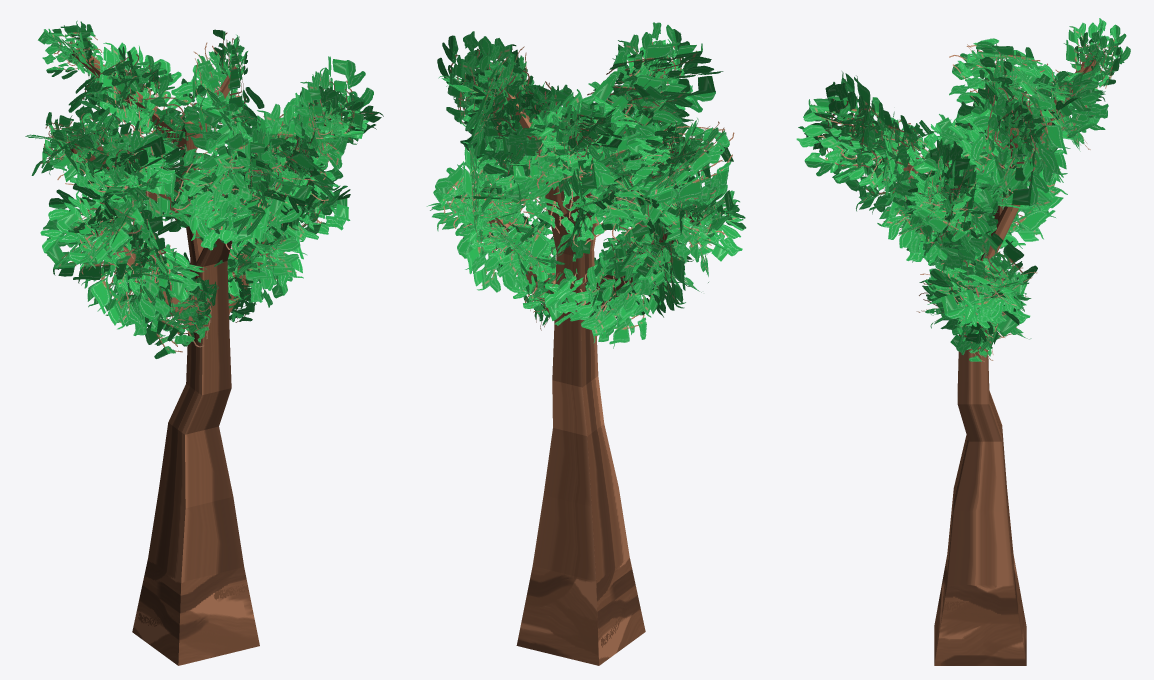
File: ProperTree.fbx
3 views of the same model, side by side, from view 1: azimuth 30°, elevation 25°; view 2: azimuth 150°, elevation 25°; view 3: azimuth 270°, elevation 25° (orthographic).
Visible parts, largest first — view 1: Cube, Cube|branch|Dupli|125, Cube|branch|Dupli|144, Cube|branch|Dupli|10, Cube|branch|Dupli|44, Cube|branch|Dupli|160, Cube|branch|Dupli|23, Cube|branch|Dupli|216, Cube|branch|Dupli|128, Cube|branch|Dupli|99, Cube|branch|Dupli|43, Cube|branch|Dupli|123 (+44 smaller); view 2: Cube, Cube|branch|Dupli|68, Cube|branch|Dupli|44, Cube|branch|Dupli|117, Cube|branch|Dupli|113, Cube|branch|Dupli|108, Cube|branch|Dupli|193, Cube|branch|Dupli|216, Cube|branch|Dupli|138, Cube|branch|Dupli|160, Cube|branch|Dupli|31, Cube|branch|Dupli|142 (+49 smaller); view 3: Cube, Cube|branch|Dupli|108, Cube|branch|Dupli|56, Cube|branch|Dupli|176, Cube|branch|Dupli|4, Cube|branch|Dupli|113, Cube|branch|Dupli|188, Cube|branch|Dupli|55, Cube|branch|Dupli|44, Cube|branch|Dupli|23, Cube|branch|Dupli|105, Cube|branch|Dupli|52 (+28 smaller).
Boxes of the visible parts, bbox=[...] form: Cube: bbox=[69, 48, 332, 665]; Cube|branch|Dupli|125: bbox=[80, 240, 189, 329]; Cube|branch|Dupli|144: bbox=[43, 183, 141, 283]; Cube|branch|Dupli|10: bbox=[127, 81, 222, 171]; Cube|branch|Dupli|44: bbox=[213, 126, 281, 235]; Cube|branch|Dupli|160: bbox=[40, 191, 144, 268]; Cube|branch|Dupli|23: bbox=[94, 42, 189, 139]; Cube|branch|Dupli|216: bbox=[294, 56, 373, 155]; Cube|branch|Dupli|128: bbox=[56, 191, 133, 273]; Cube|branch|Dupli|99: bbox=[88, 130, 197, 209]; Cube|branch|Dupli|43: bbox=[182, 145, 262, 229]; Cube|branch|Dupli|123: bbox=[227, 213, 307, 302]; Cube: bbox=[476, 70, 695, 665]; Cube|branch|Dupli|68: bbox=[624, 110, 734, 206]; Cube|branch|Dupli|44: bbox=[606, 37, 723, 112]; Cube|branch|Dupli|117: bbox=[455, 192, 548, 279]; Cube|branch|Dupli|113: bbox=[465, 70, 568, 165]; Cube|branch|Dupli|108: bbox=[469, 46, 527, 152]; Cube|branch|Dupli|193: bbox=[465, 213, 556, 292]; Cube|branch|Dupli|216: bbox=[437, 31, 519, 109]; Cube|branch|Dupli|138: bbox=[544, 266, 656, 333]; Cube|branch|Dupli|160: bbox=[658, 189, 744, 261]; Cube|branch|Dupli|31: bbox=[523, 89, 627, 188]; Cube|branch|Dupli|142: bbox=[552, 254, 641, 339]; Cube: bbox=[849, 53, 1096, 665]; Cube|branch|Dupli|108: bbox=[970, 87, 1070, 188]; Cube|branch|Dupli|56: bbox=[796, 95, 899, 183]; Cube|branch|Dupli|176: bbox=[927, 231, 1037, 302]; Cube|branch|Dupli|4: bbox=[909, 156, 982, 241]; Cube|branch|Dupli|113: bbox=[992, 91, 1057, 210]; Cube|branch|Dupli|188: bbox=[927, 260, 1037, 323]; Cube|branch|Dupli|55: bbox=[832, 103, 916, 212]; Cube|branch|Dupli|44: bbox=[798, 71, 884, 175]; Cube|branch|Dupli|23: bbox=[1028, 69, 1108, 142]; Cube|branch|Dupli|105: bbox=[966, 103, 1055, 196]; Cube|branch|Dupli|52: bbox=[825, 82, 870, 163].
Size of the model in its own units: 0.6266 by 0.5608 by 1.04.
